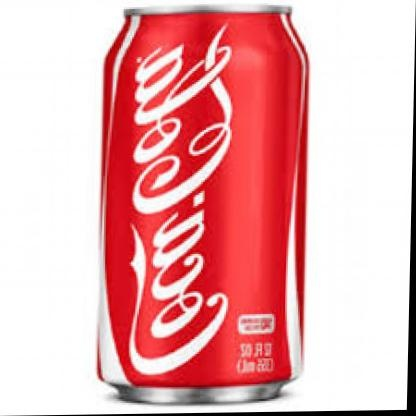trash: (98, 6, 307, 402)
